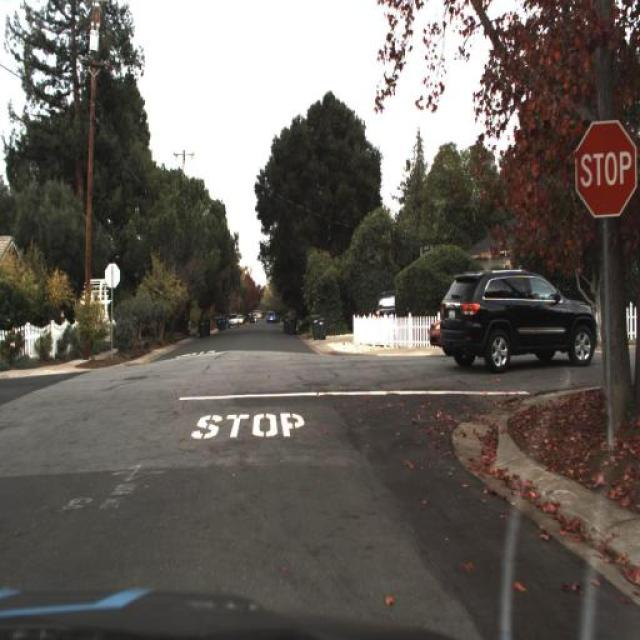car: (440, 264, 600, 376), (427, 299, 444, 362)
